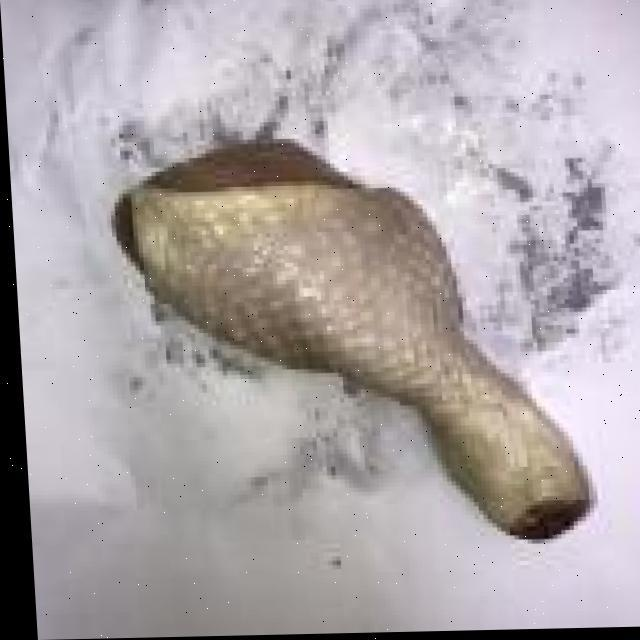leg: (102, 124, 602, 564)
